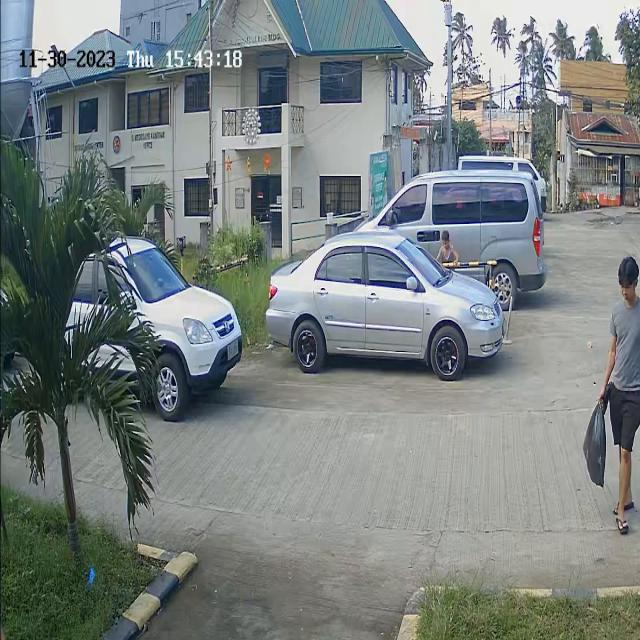garbage: (579, 389, 611, 495)
person: (612, 251, 640, 388)
